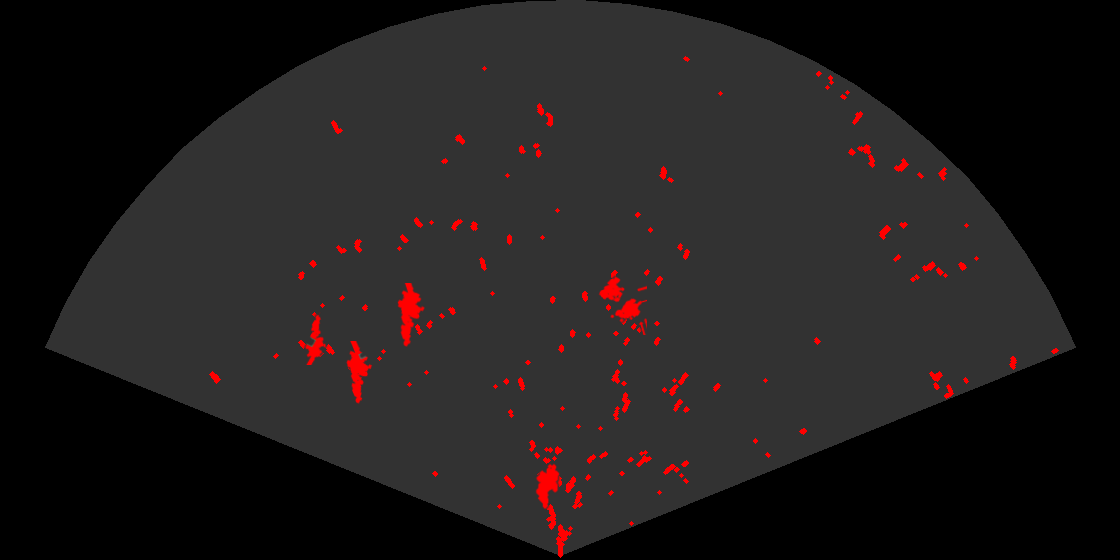AUV: (534, 462, 561, 511)
cage: (597, 275, 647, 335)
frogman: (396, 283, 426, 349), (345, 341, 374, 405), (303, 312, 328, 365)
